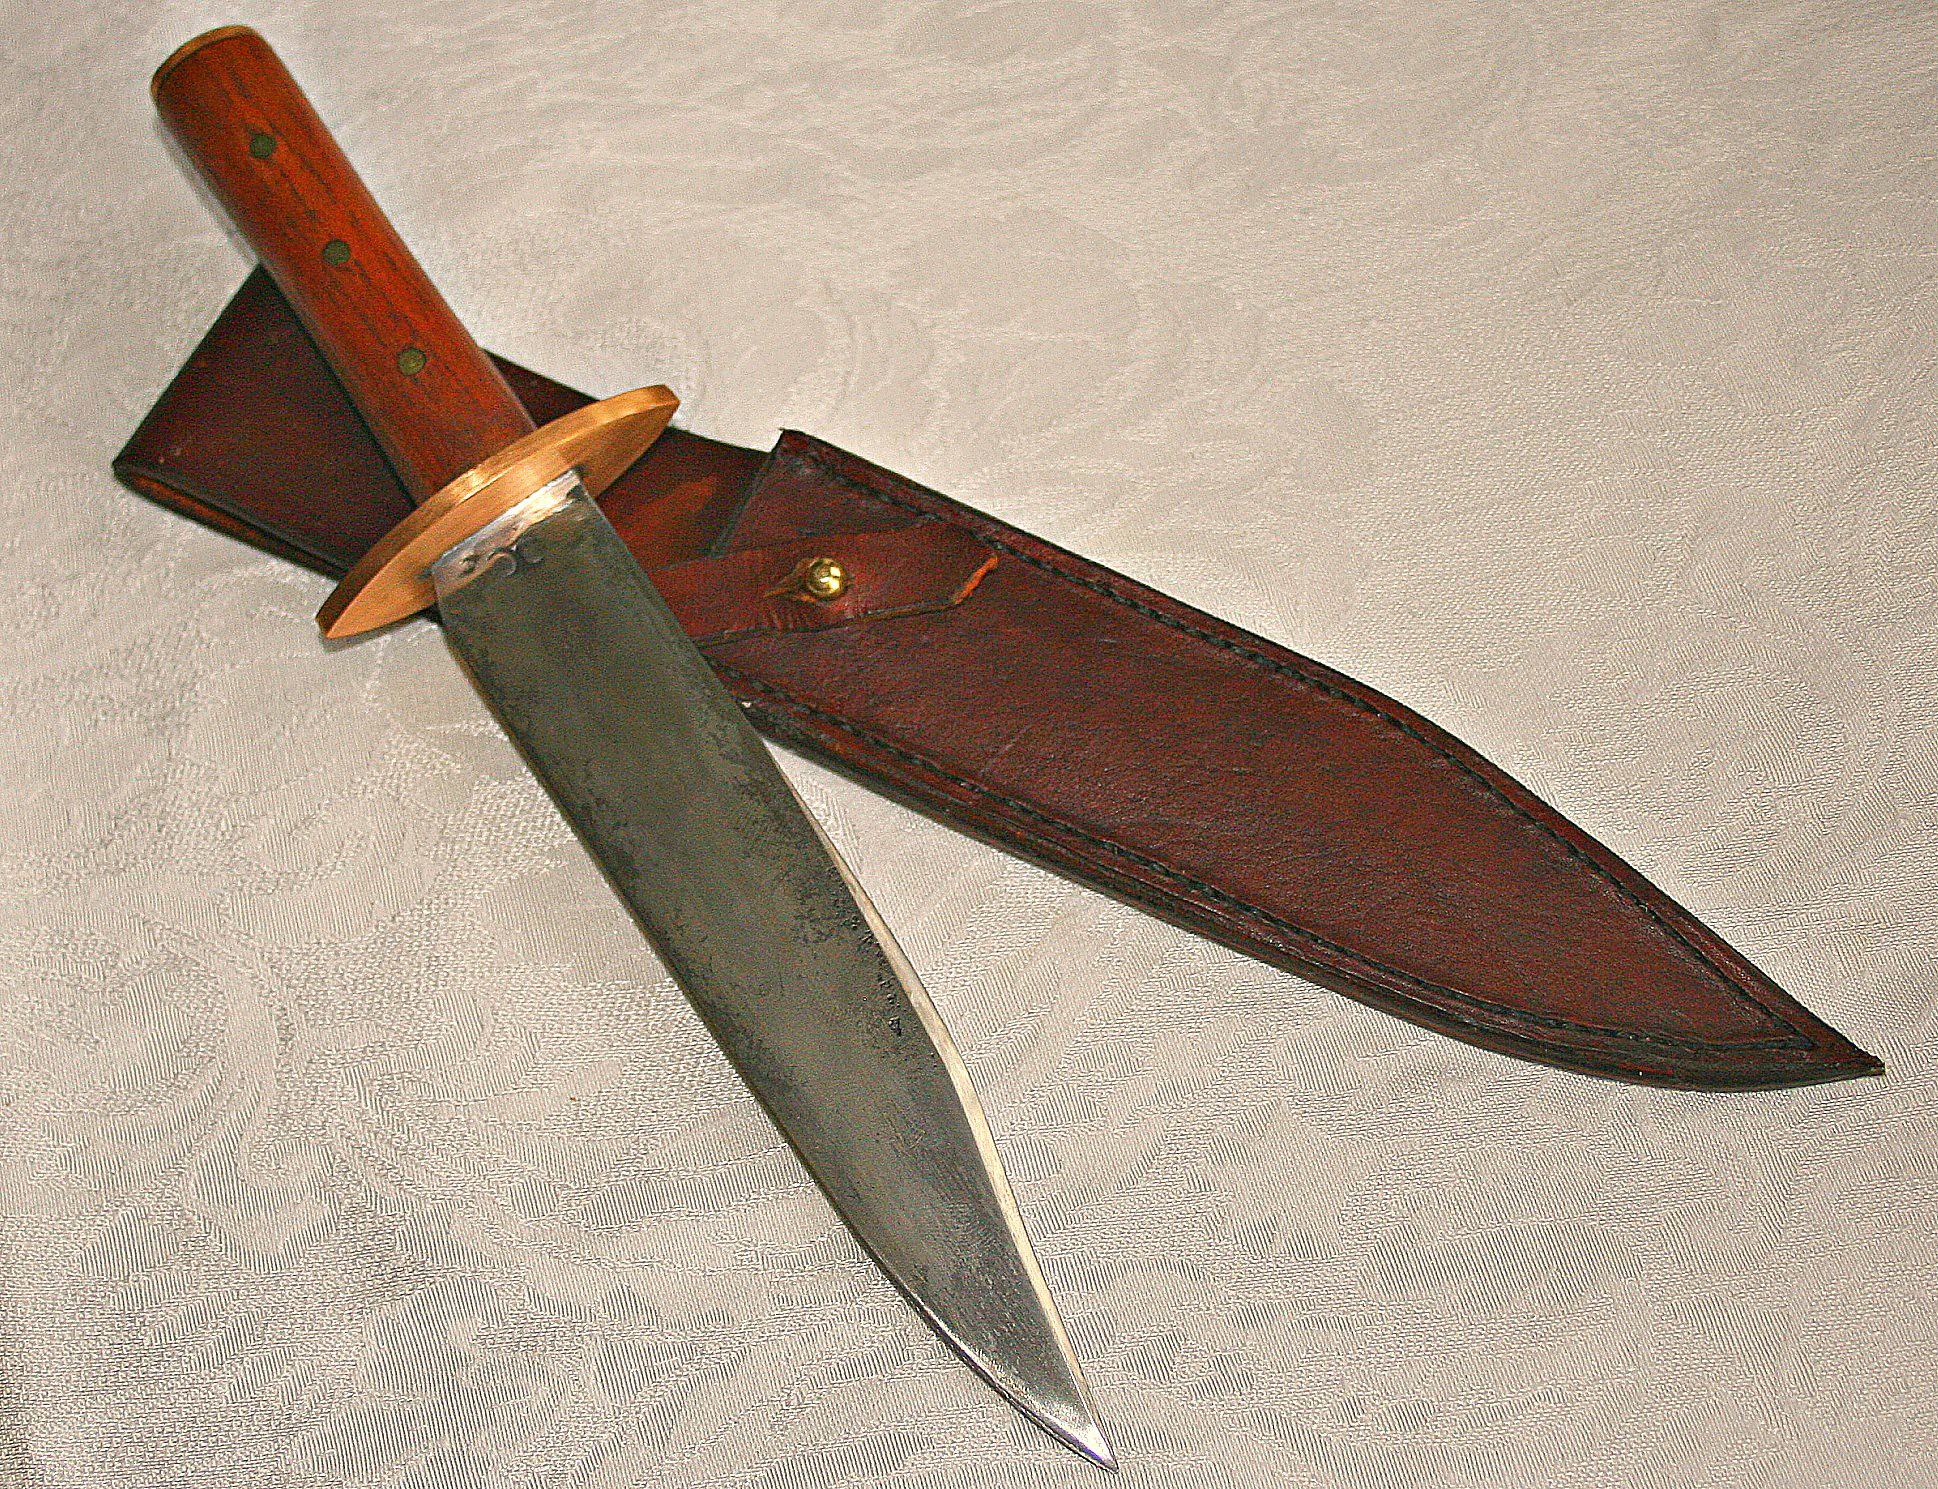knife: (141, 19, 1128, 1473)
